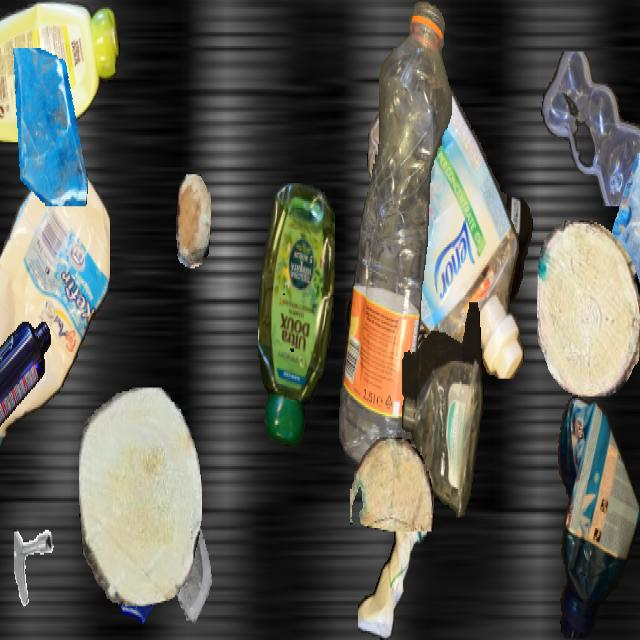glass: (4, 48, 92, 204), (149, 502, 225, 636), (109, 512, 171, 622), (601, 151, 640, 297)
metal: (14, 526, 74, 633)
plastic: (339, 2, 451, 471), (366, 71, 526, 377), (345, 197, 533, 439), (0, 153, 110, 462), (552, 393, 640, 638), (258, 183, 334, 446), (402, 302, 484, 519), (0, 2, 120, 140), (541, 52, 640, 205), (358, 489, 426, 638), (0, 322, 50, 468)
wood: (79, 388, 201, 604), (537, 220, 639, 394), (350, 437, 434, 530), (176, 174, 210, 267)
